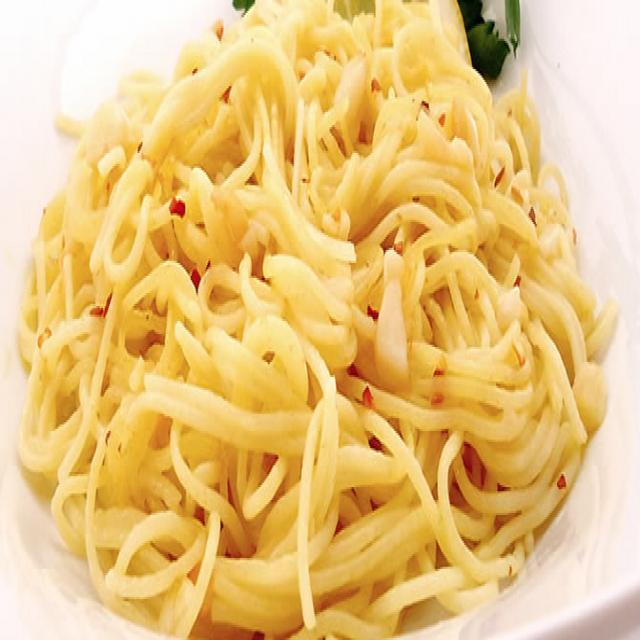Oil pasta: (36, 22, 558, 628)
